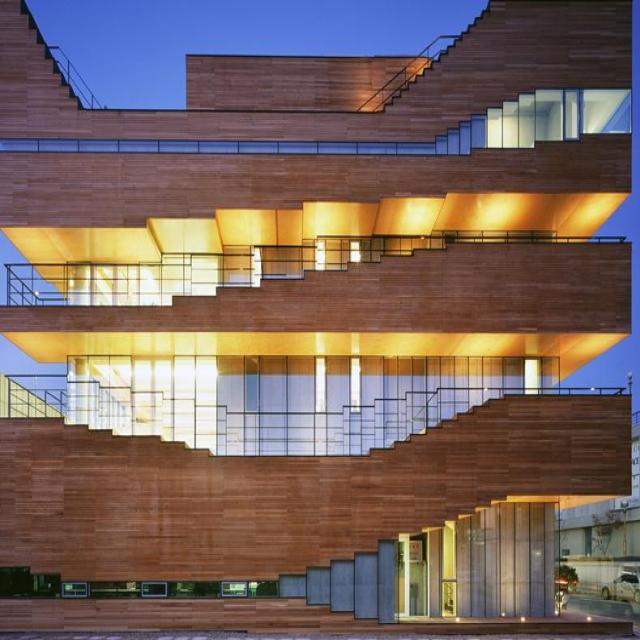railing: (7, 377, 623, 457), (7, 236, 624, 307)
window: (0, 504, 561, 626), (67, 355, 562, 456), (0, 84, 585, 153), (64, 230, 560, 306)
